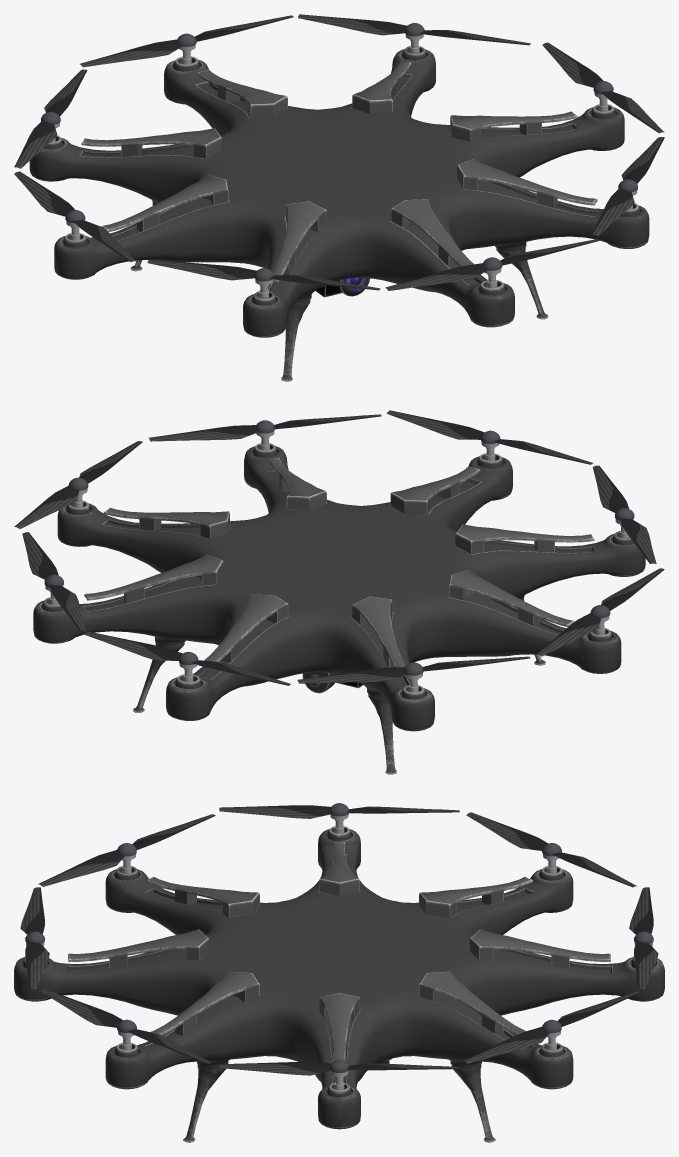
File: Octocopter.gltf
The picture shows the model from 3 angles, top to bottom: view 1: azimuth 30°, elevation 25°; view 2: azimuth 150°, elevation 25°; view 3: azimuth 270°, elevation 25°; orthographic projection.
Visible parts, largest first — view 1: Octocopter_Body, FL_Propeller_Octo, BR_Propeller_Octo, B_Propeller_Octo, F_Propeller_Octo, MR_Propeller_Octo, ML_Propeller_Octo, BL_Propeller_Octo, FR_Propeller_Octo, Camera Octo; view 2: Octocopter_Body, BL_Propeller_Octo, FR_Propeller_Octo, F_Propeller_Octo, B_Propeller_Octo, ML_Propeller_Octo, MR_Propeller_Octo, BR_Propeller_Octo, FL_Propeller_Octo; view 3: Octocopter_Body, ML_Propeller_Octo, MR_Propeller_Octo, FL_Propeller_Octo, BL_Propeller_Octo, FR_Propeller_Octo, BR_Propeller_Octo, F_Propeller_Octo, B_Propeller_Octo.
Boxes of the visible parts, x1=… form: Octocopter_Body: x1=29, y1=46, x2=649, y2=381; FL_Propeller_Octo: x1=147, y1=259, x2=380, y2=298; BR_Propeller_Octo: x1=298, y1=14, x2=530, y2=53; B_Propeller_Octo: x1=80, y1=15, x2=293, y2=67; F_Propeller_Octo: x1=385, y1=239, x2=599, y2=290; MR_Propeller_Octo: x1=542, y1=42, x2=664, y2=133; ML_Propeller_Octo: x1=14, y1=171, x2=136, y2=261; BL_Propeller_Octo: x1=14, y1=69, x2=87, y2=168; FR_Propeller_Octo: x1=591, y1=137, x2=664, y2=236; Camera Octo: x1=316, y1=277, x2=369, y2=297; Octocopter_Body: x1=33, y1=443, x2=645, y2=774; BL_Propeller_Octo: x1=297, y1=656, x2=530, y2=692; FR_Propeller_Octo: x1=149, y1=414, x2=381, y2=450; F_Propeller_Octo: x1=386, y1=410, x2=593, y2=464; B_Propeller_Octo: x1=84, y1=631, x2=291, y2=685; ML_Propeller_Octo: x1=536, y1=568, x2=664, y2=656; MR_Propeller_Octo: x1=14, y1=441, x2=142, y2=528; BR_Propeller_Octo: x1=22, y1=532, x2=86, y2=630; FL_Propeller_Octo: x1=592, y1=465, x2=656, y2=563; Octocopter_Body: x1=14, y1=826, x2=664, y2=1142; ML_Propeller_Octo: x1=219, y1=803, x2=459, y2=833; MR_Propeller_Octo: x1=219, y1=1059, x2=459, y2=1089; FL_Propeller_Octo: x1=38, y1=814, x2=215, y2=886; BL_Propeller_Octo: x1=466, y1=812, x2=636, y2=887; FR_Propeller_Octo: x1=41, y1=989, x2=211, y2=1064; BR_Propeller_Octo: x1=463, y1=991, x2=640, y2=1063; F_Propeller_Octo: x1=20, y1=887, x2=49, y2=989; B_Propeller_Octo: x1=629, y1=887, x2=658, y2=989.
Bounding box in the file's own units: 2 × 0.4955 × 2.
2 materials, 2 textured.
